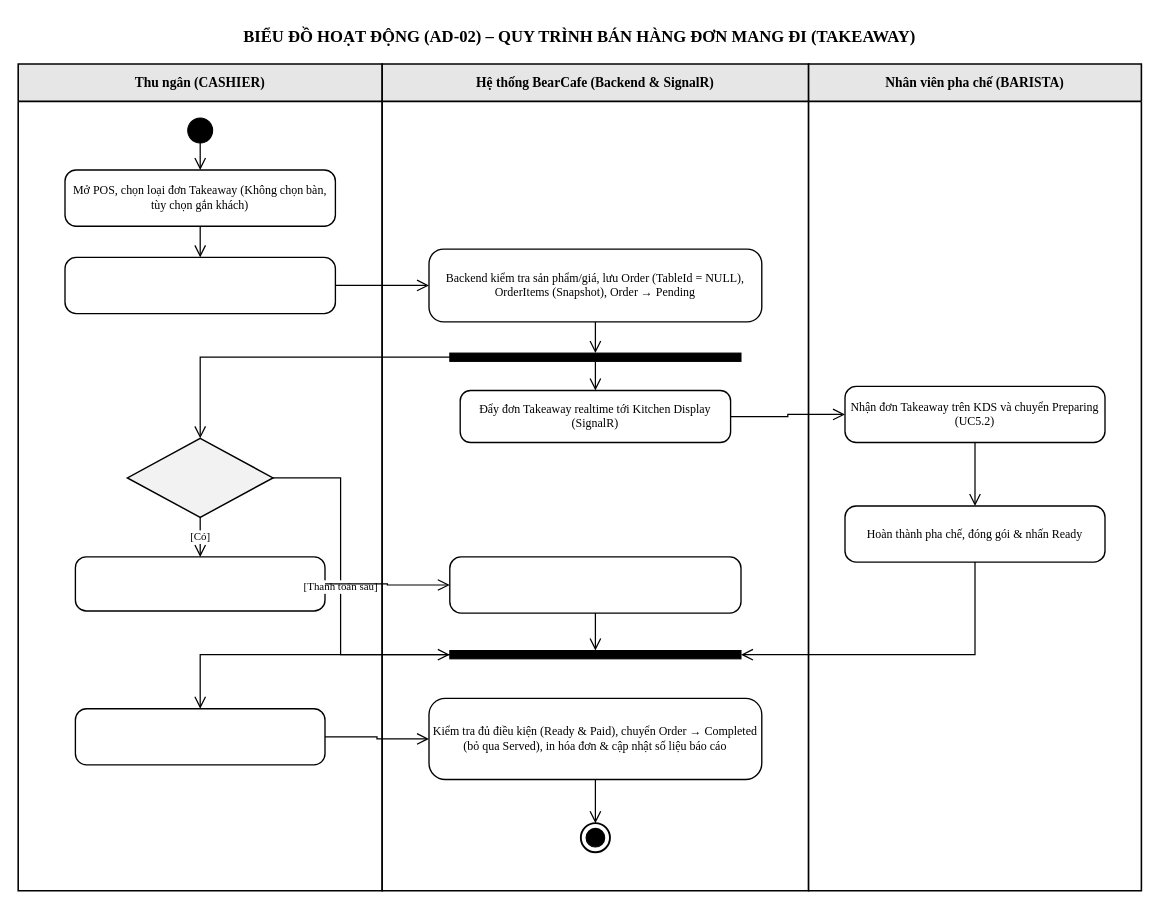
The diagram is 1161 pixels wide and 909 high, and some of its shapes have lost their labels. Here are the shapes that lost their labels. From the top down, the centre of each, then its label:
pixel 200 285: Chọn món, size, topping, ghi chú và nhấn Xác nhận đơn (UC4.1, UC4.2)
pixel 199 477: Thanh toán trước pha chế?
pixel 199 583: Thực hiện thu tiền & ghi nhận Payment (UC6.1)
pixel 595 584: Ghi nhận Payment (IdempotencyKey), cập nhật PaymentStatus → Paid
pixel 199 736: Giao đồ uống cho khách và thu phần còn lại (nếu có)
